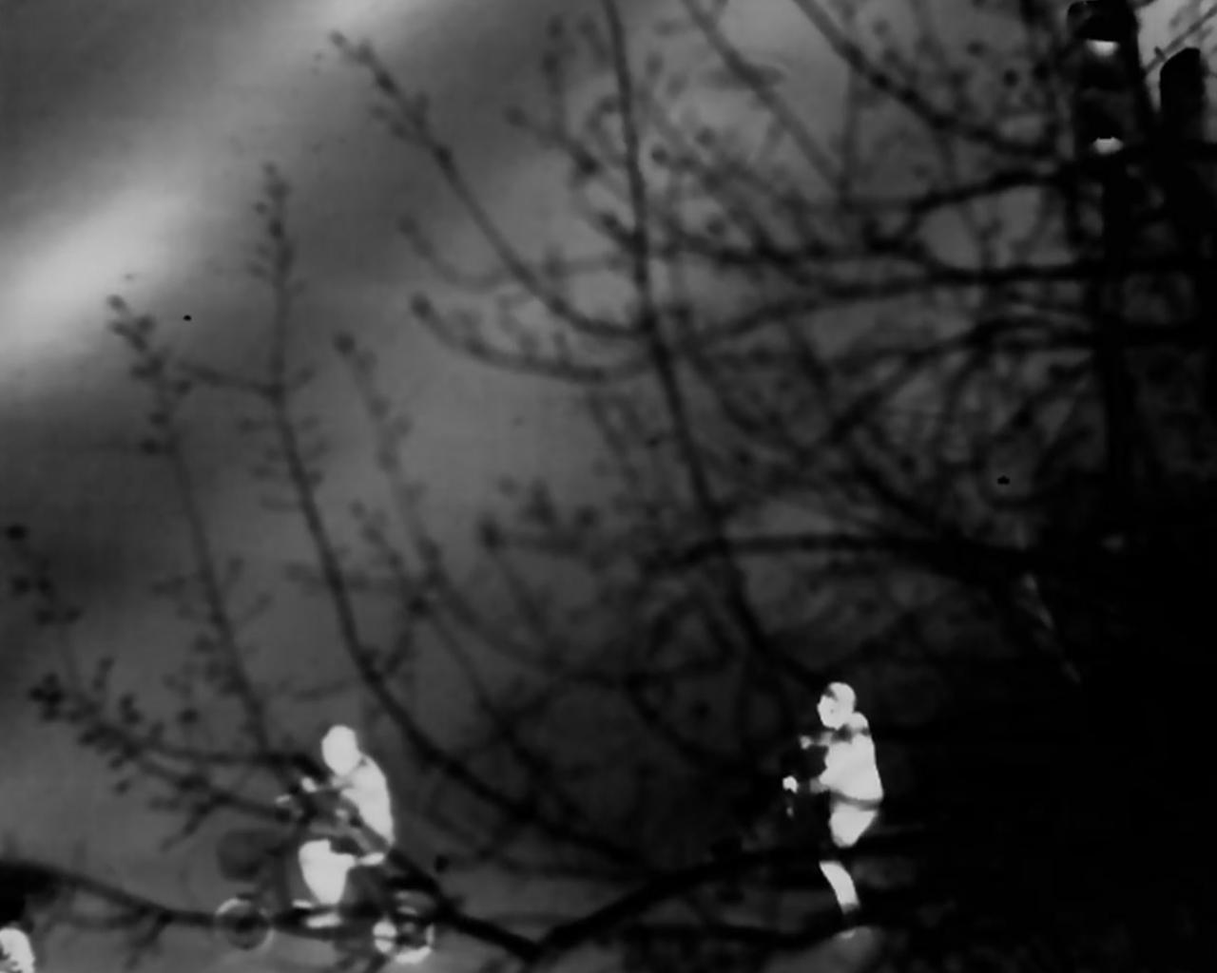person: (294, 724, 405, 930), (790, 683, 879, 928)
